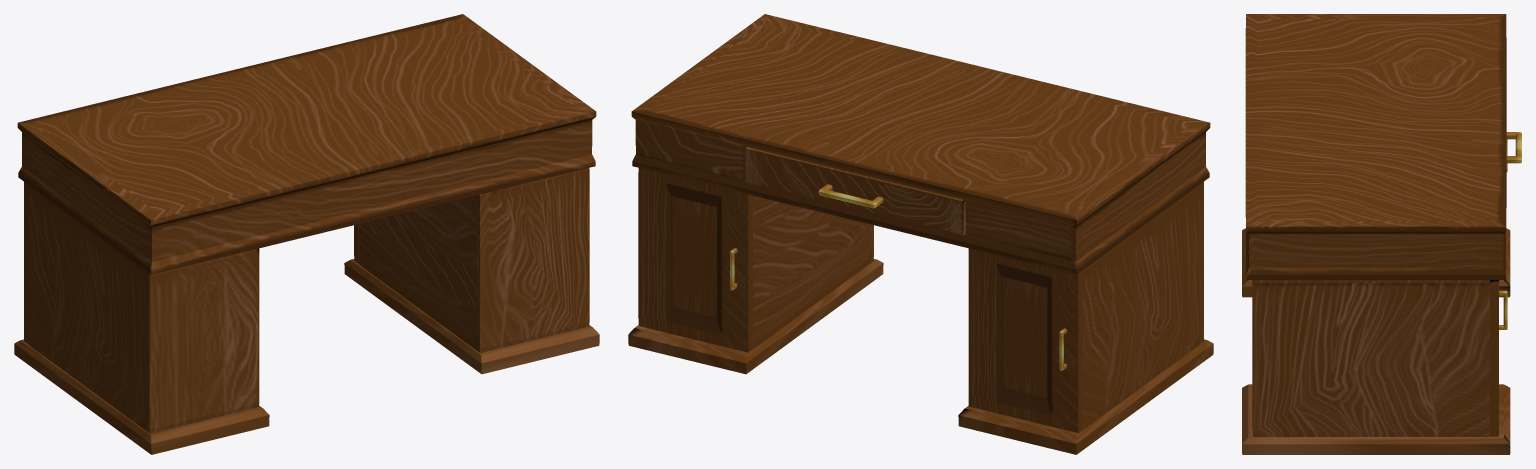
File: desk_textured_2x1.fbx
The picture shows the model from 3 angles, left to right: view 1: azimuth 30°, elevation 25°; view 2: azimuth 150°, elevation 25°; view 3: azimuth 270°, elevation 25°; orthographic projection. The views are drawn at different scales.
Visible parts, largest first — view 1: desk; view 2: desk; view 3: desk.
Part boxes in pixels (x1,y1,x2,y2): desk: [14, 14, 599, 454]; desk: [628, 14, 1213, 454]; desk: [1242, 14, 1521, 454].
Size of the model in its own units: 163 by 81.21 by 90.16.
